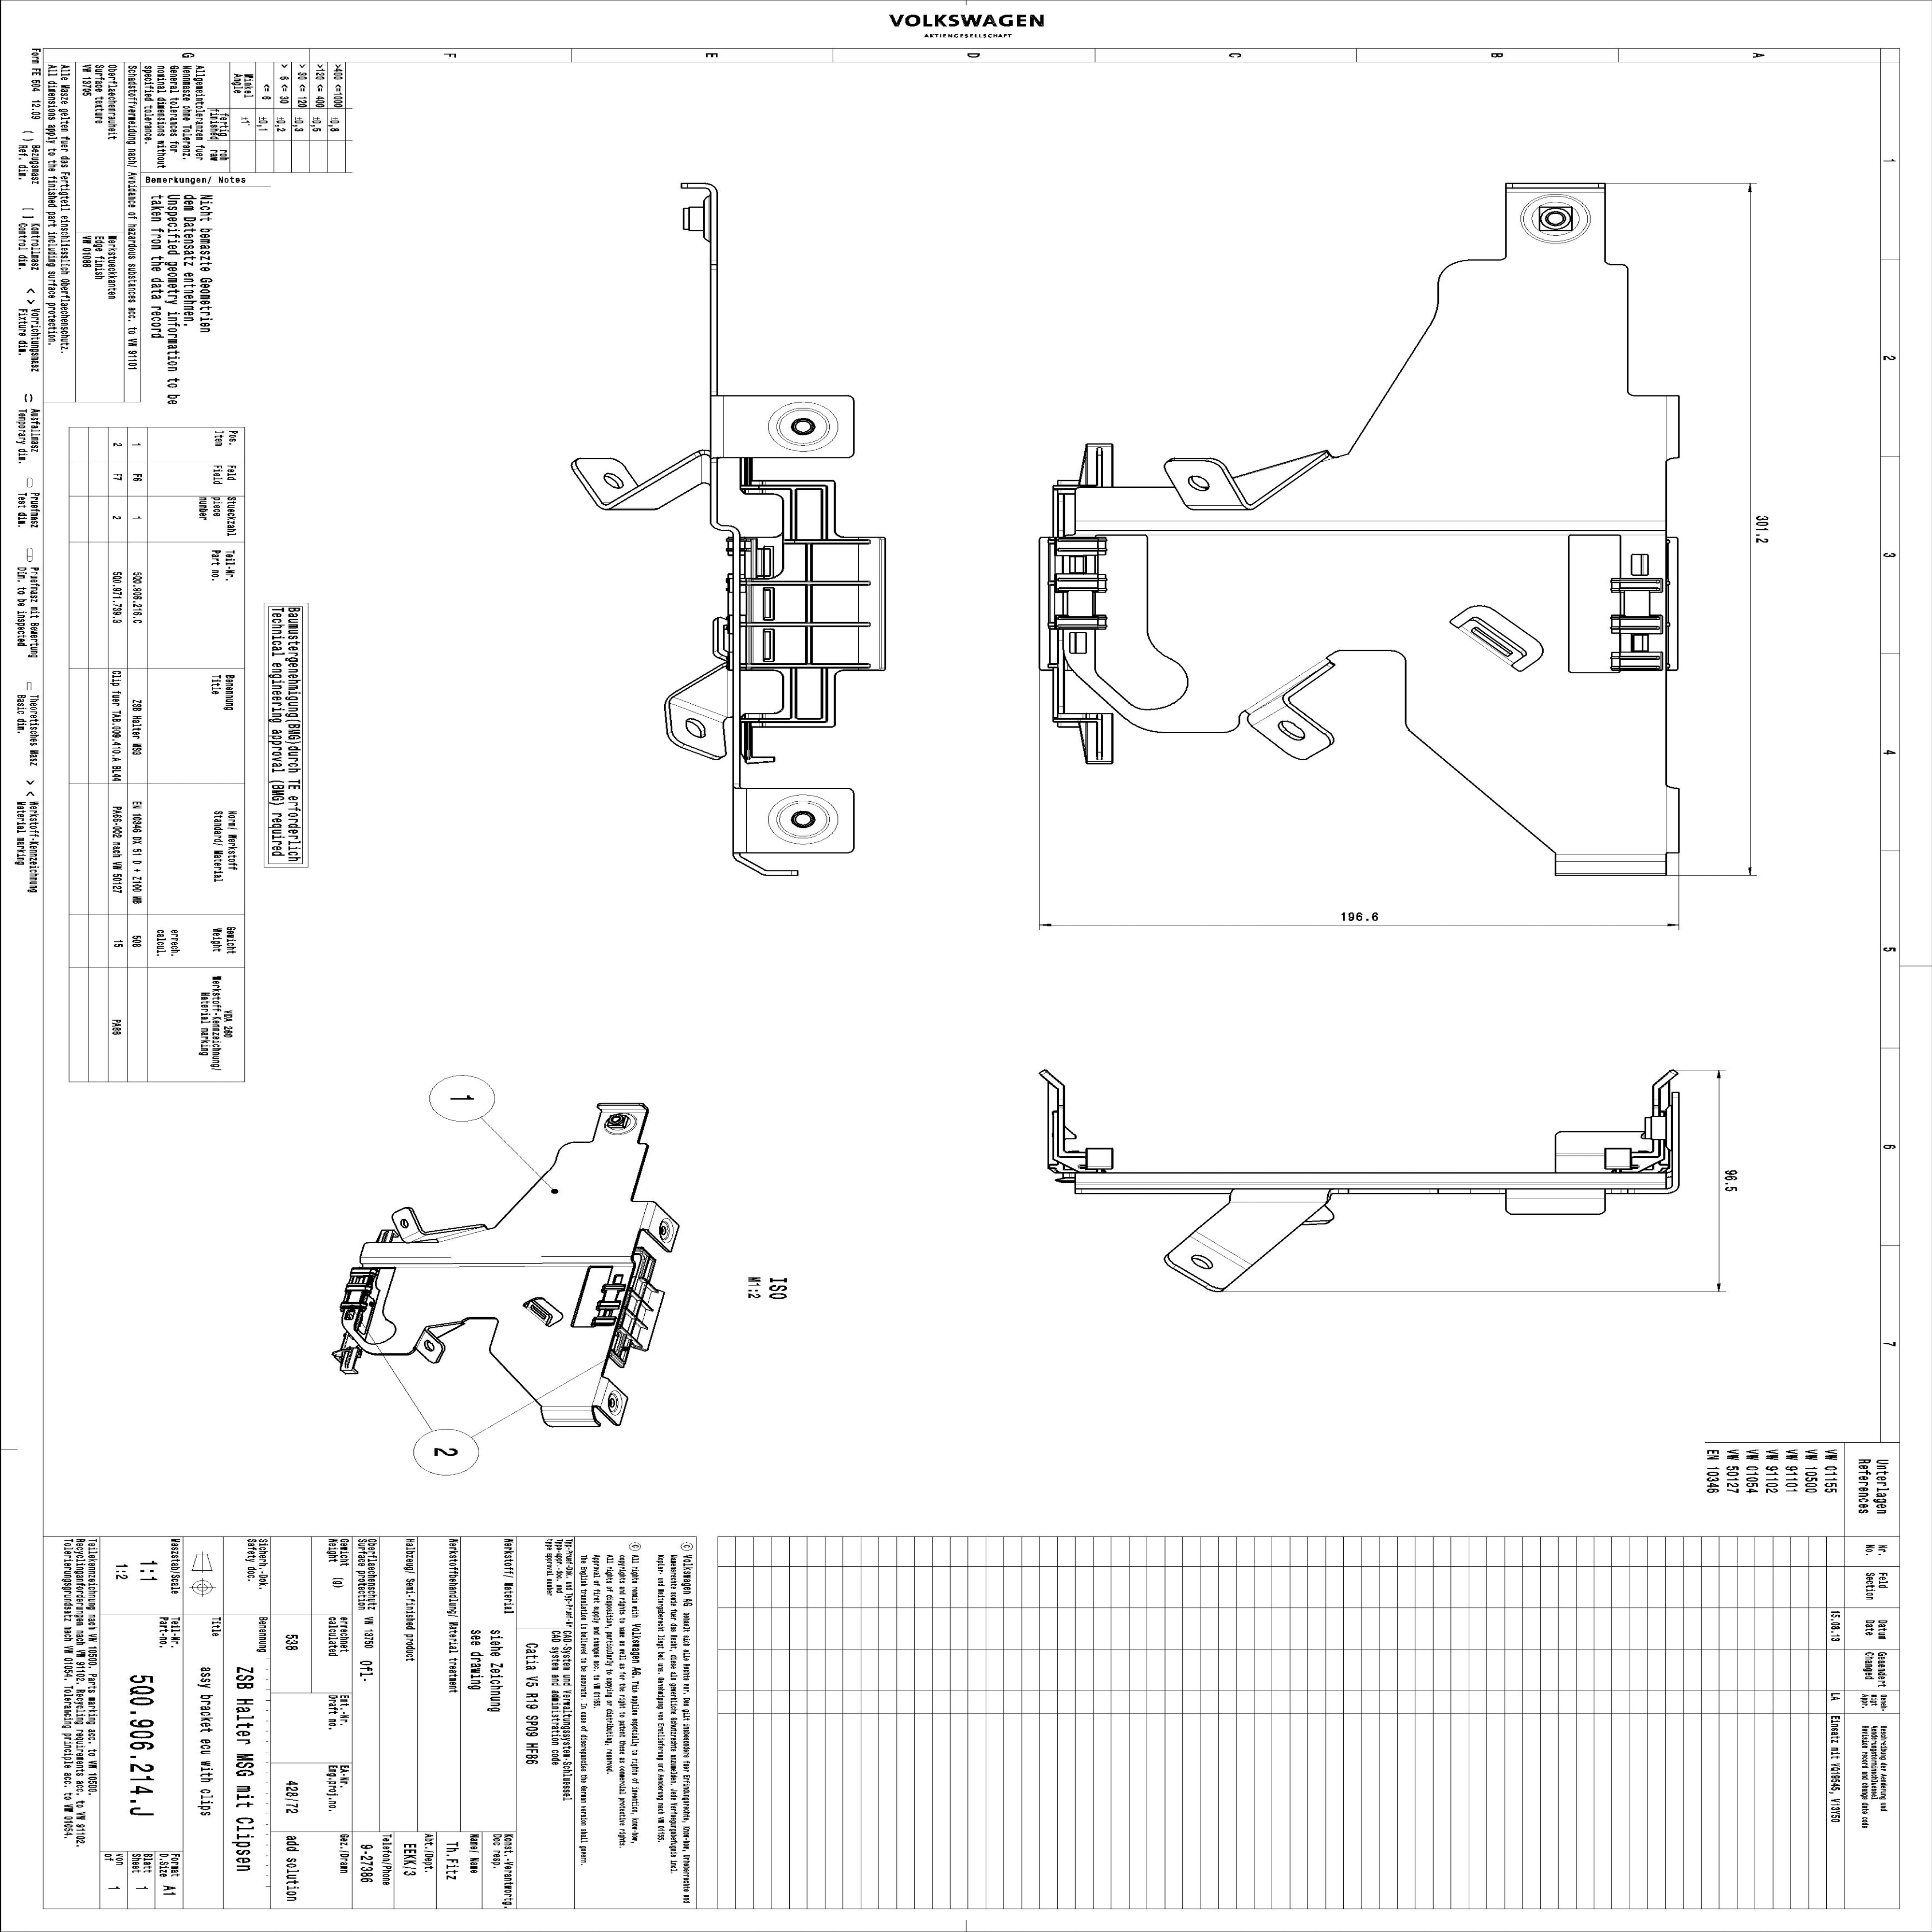BendingEdge: (1187, 1221, 1258, 1274)
InnerContour: (1272, 711, 1311, 748), (1182, 467, 1214, 499), (1187, 1249, 1217, 1276), (603, 1387, 626, 1419), (685, 717, 706, 741), (603, 469, 625, 490), (660, 1215, 674, 1244), (423, 1339, 435, 1352), (400, 1219, 409, 1228)
ThroughHole: (768, 793, 840, 846), (766, 402, 842, 451)
